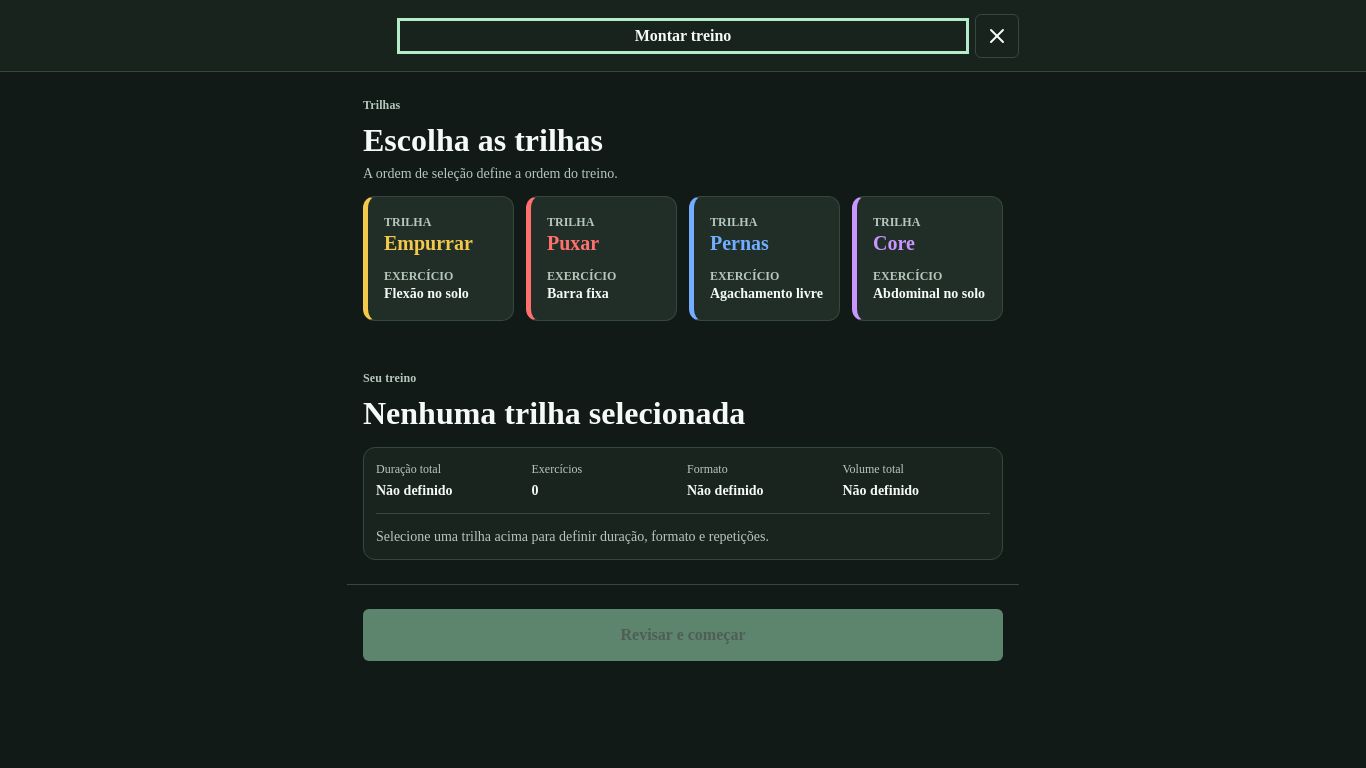
it: WorkoutFlow › volta ao estado vazio ao remover a última trilha
Click the button "Core Trilha Exercício Abdominal no solo" at (928, 258), box [852,196,1003,321]
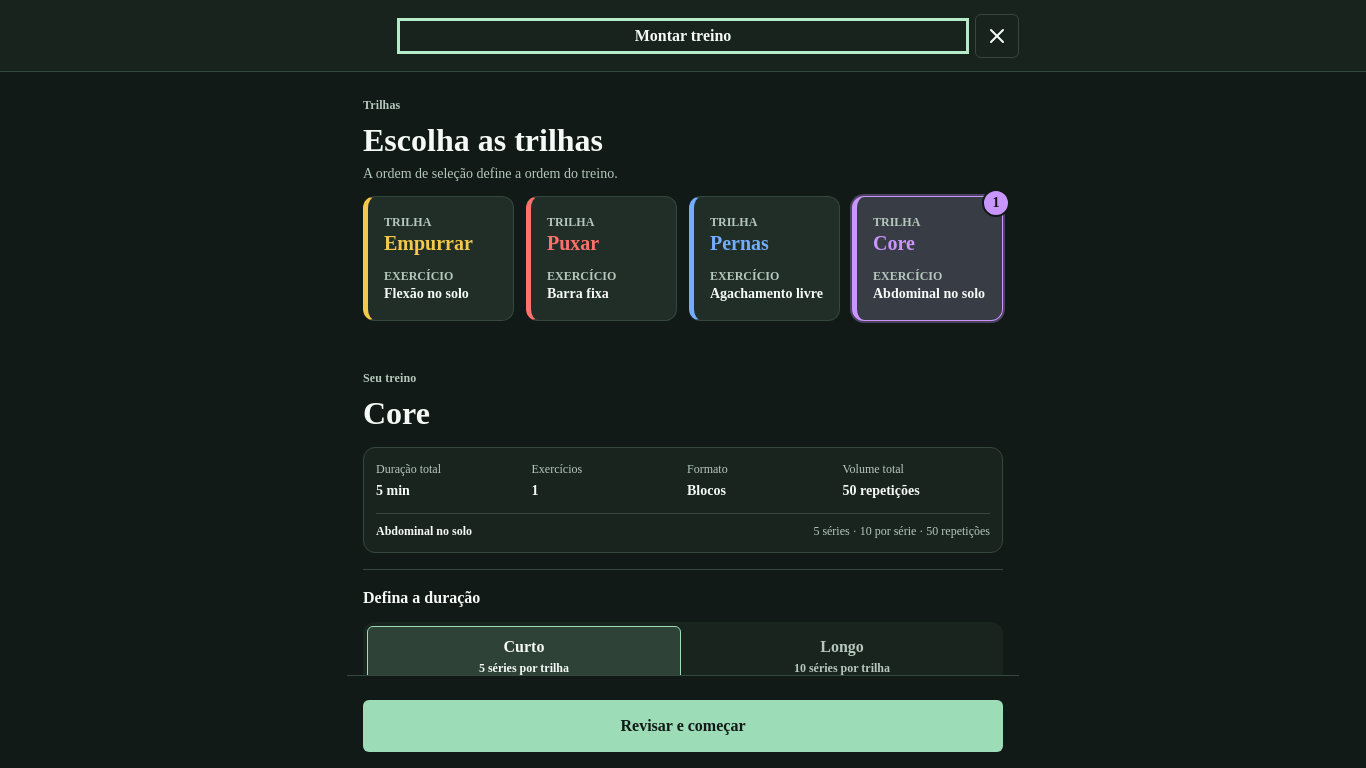
Click the button "1 Core Trilha Exercício Abdominal no solo" at (928, 258), box [852,196,1003,321]
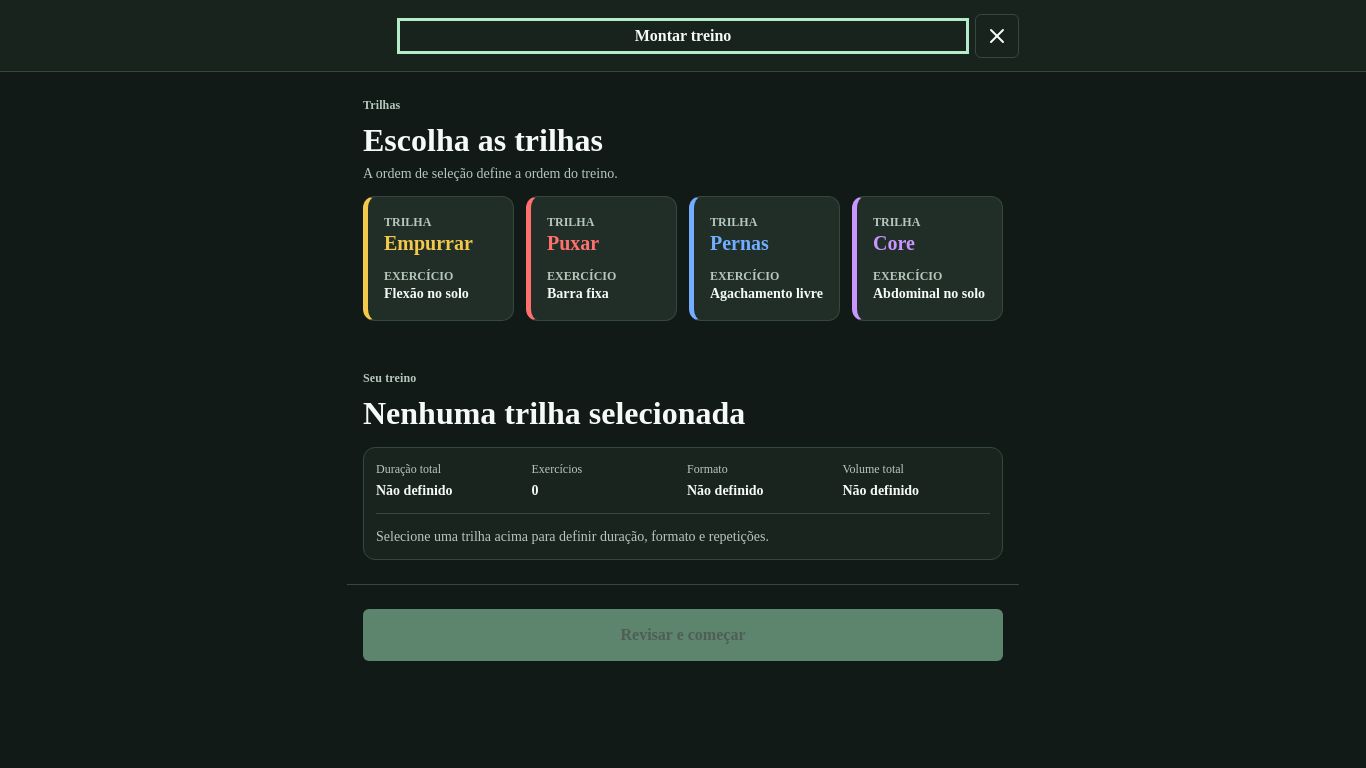
Result: the heading "Nenhuma trilha selecionada" is shown at [363,395,745,431]
Result: the button "Revisar e começar" is disabled at [363,610,1003,662]
